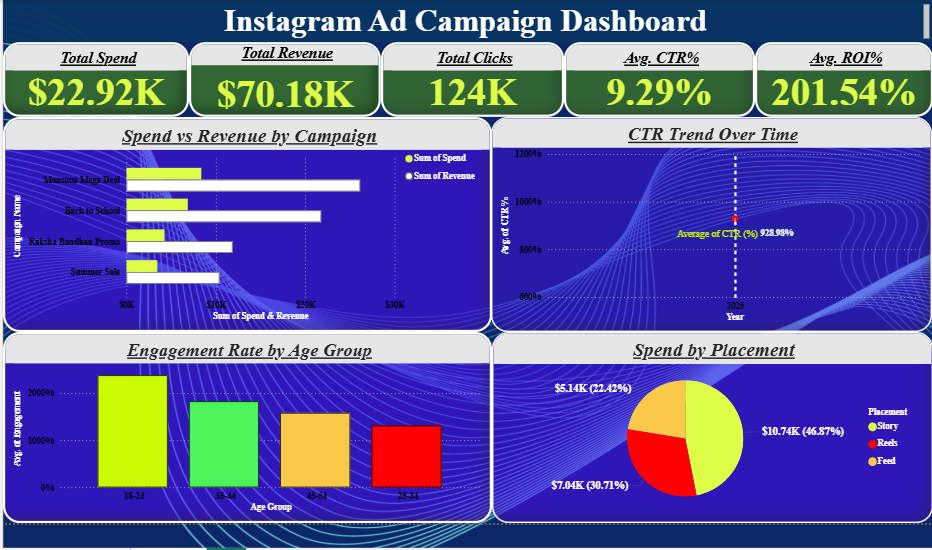

What the dashboard file says about the page in this screenshot:
{"tool":"powerbi","page":{"name":"Page 1","canvas":[1280,720],"ordinal":0},"visuals":[{"type":"card","title":"Total Spend ","fields":{"Values":["Sum(Sheet1.Spend)"]},"box":[0,57.8,256,103.2],"z":0},{"type":"card","title":"Total Revenue","fields":{"Values":["Sum(Sheet1.Revenue)"]},"box":[256,57.8,264.3,103.2],"z":1000},{"type":"card","title":"Total Clicks","fields":{"Values":["Sum(Sheet1.Clicks)"]},"box":[520.3,57.8,251.9,103.2],"z":2000},{"type":"card","title":"Avg. CTR%","fields":{"Values":["Avg(Sheet1.CTR%)"]},"box":[772.1,57.8,262.9,103.2],"z":3000},{"type":"card","title":"Avg. ROI%","fields":{"Values":["Avg(Sheet1.ROI%)"]},"box":[1035,57.8,245,103.2],"z":4000},{"type":"clusteredBarChart","title":"Spend vs Revenue by Campaign","fields":{"Category":["Sheet1.Campaign Name"],"Y":["Sum(Sheet1.Spend)","Sum(Sheet1.Revenue)"]},"box":[0,161,673,295.9],"z":5000},{"type":"lineChart","title":"CTR Trend Over Time","fields":{"Category":["Sheet1.Date.Variation.Date Hierarchy.Year","Sheet1.Date.Variation.Date Hierarchy.Quarter","Sheet1.Date.Variation.Date Hierarchy.Month","Sheet1.Date.Variation.Date Hierarchy.Day"],"Y":["Avg(Sheet1.CTR (%))"]},"box":[671.7,161,607,295.9],"z":6000},{"type":"clusteredColumnChart","title":"Engagement Rate by Age Group","fields":{"Category":["Sheet1.Age Group"],"Y":["Avg(Sheet1.Engagement Rate)"]},"box":[0,456.9,673,262.9],"z":7000},{"type":"pieChart","title":"Spend by Placement","fields":{"Category":["Sheet1.Placement"],"Y":["Sum(Sheet1.Spend)"]},"box":[673,456.9,607,262.9],"z":8000},{"type":"textbox","box":[0,0,1280,57.8],"z":9000}]}

Visuals, with their boxes in screenshot pixels (x1, y1, x2, y2):
"Total Spend " card: pyautogui.locateOnScreen(5, 42, 189, 116)
"Total Revenue" card: pyautogui.locateOnScreen(189, 42, 378, 116)
"Total Clicks" card: pyautogui.locateOnScreen(378, 42, 559, 116)
"Avg. CTR%" card: pyautogui.locateOnScreen(559, 42, 748, 116)
"Avg. ROI%" card: pyautogui.locateOnScreen(748, 42, 924, 116)
"Spend vs Revenue by Campaign" clusteredBarChart: pyautogui.locateOnScreen(5, 116, 488, 328)
"CTR Trend Over Time" lineChart: pyautogui.locateOnScreen(487, 116, 923, 328)
"Engagement Rate by Age Group" clusteredColumnChart: pyautogui.locateOnScreen(5, 328, 488, 517)
"Spend by Placement" pieChart: pyautogui.locateOnScreen(488, 328, 924, 517)
textbox: pyautogui.locateOnScreen(5, 0, 924, 42)
